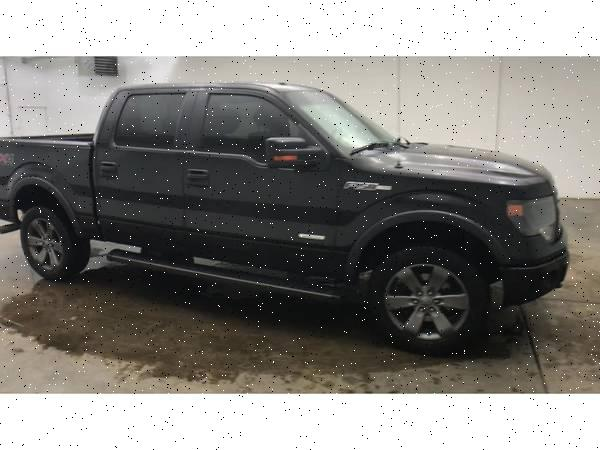Front_Bumper: (502, 253, 571, 305)
Front_Fender: (332, 163, 564, 286)
Front_Right_Door: (187, 152, 339, 277)
Front_Right_Window: (187, 88, 349, 170)
Front_Windshield: (280, 94, 400, 154)
Hood: (347, 142, 547, 186)
Rear_Fender: (0, 137, 100, 238)
Rear_Right_Door: (95, 144, 187, 253)
Rear_Right_Window: (93, 85, 198, 150)
Right_Headlight: (509, 196, 562, 239)
Wheel: (367, 247, 488, 353), (18, 203, 89, 278)
